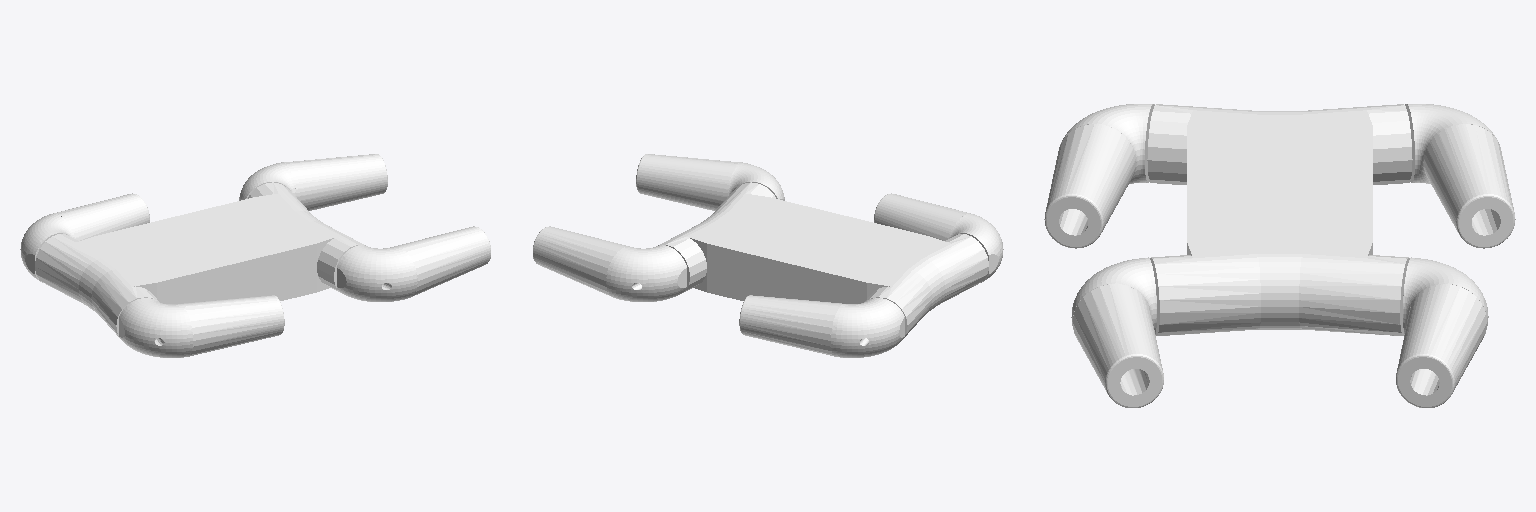
The robot description file, URDF, robot "9_degree":
<?xml version="1.0" encoding="utf-8"?>
<!-- This URDF was automatically created by SolidWorks to URDF Exporter! Originally created by [author] ([email redacted]) 
     Commit Version: 1.5.1-0-g916b5db  Build Version: 1.5.7152.31018
     For more information, please see http://wiki.ros.org/sw_urdf_exporter -->
<robot
  name="9_degree">
  <link
    name="base_link">
    <inertial>
      <origin
        xyz="-4.8572E-17 2.3225E-08 -5.2042E-18"
        rpy="0 0 0" />
      <mass
        value="2.942" />
      <inertia
        ixx="0.0101983"
        ixy="-6.5182E-19"
        ixz="-1.5206E-10"
        iyy="0.0407337"
        iyz="2.3311E-18"
        izz="0.0485410" />
    </inertial>
    <visual>
      <origin
        xyz="0 0 0"
        rpy="0 0 0" />
      <geometry>
        <mesh
          filename="package://9_degree/meshes/base_link.STL" />
      </geometry>
      <material
        name="">
        <color
          rgba="1 1 1 1" />
      </material>
    </visual>
    <collision>
      <origin
        xyz="0 0 0"
        rpy="0 0 0" />
      <geometry>
        <mesh
          filename="package://9_degree/meshes/base_link.STL" />
      </geometry>
    </collision>
  </link>
  <link
    name="left_front_link">
    <inertial>
      <origin
        xyz="-2.5506E-08 0.061763 -0.026677"
        rpy="0 0 0" />
      <mass
        value="0.092" />
      <inertia
        ixx="0.0002604"
        ixy="4.2892E-10"
        ixz="1.0058E-09"
        iyy="0.0000506"
        iyz="-1.01E-05"
        izz="0.0002595" />
    </inertial>
    <visual>
      <origin
        xyz="0 0 0"
        rpy="0 0 0" />
      <geometry>
        <mesh
          filename="package://9_degree/meshes/left_front_link.STL" />
      </geometry>
      <material
        name="">
        <color
          rgba="1 1 1 1" />
      </material>
    </visual>
    <collision>
      <origin
        xyz="0 0 0"
        rpy="0 0 0" />
      <geometry>
        <mesh
          filename="package://9_degree/meshes/left_front_link.STL" />
      </geometry>
    </collision>
  </link>
  <joint
    name="left_front_leg"
    type="continuous">
    <origin
      xyz="0.14611 0.10173 0"
      rpy="1.5708 1.5708 0" />
    <parent
      link="base_link" />
    <child
      link="left_front_link" />
    <axis
      xyz="0 0.15643 -0.98769" />
    <limit
      effort="5"
      velocity="487" />
  </joint>
  <link
    name="right_front_link">
    <inertial>
      <origin
        xyz="2.5506E-08 0.061763 0.026677"
        rpy="0 0 0" />
      <mass
        value="0.092" />
      <inertia
        ixx="0.0002604"
        ixy="-4.2892E-10"
        ixz="1.0058E-09"
        iyy="0.00021219"
        iyz="1.01E-05"
        izz="0.0002595" />
    </inertial>
    <visual>
      <origin
        xyz="0 0 0"
        rpy="0 0 0" />
      <geometry>
        <mesh
          filename="package://9_degree/meshes/right_front_link.STL" />
      </geometry>
      <material
        name="">
        <color
          rgba="1 1 1 1" />
      </material>
    </visual>
    <collision>
      <origin
        xyz="0 0 0"
        rpy="0 0 0" />
      <geometry>
        <mesh
          filename="package://9_degree/meshes/right_front_link.STL" />
      </geometry>
    </collision>
  </link>
  <joint
    name="right_front_leg"
    type="continuous">
    <origin
      xyz="0.14611 -0.10173 0"
      rpy="1.5708 1.5708 0" />
    <parent
      link="base_link" />
    <child
      link="right_front_link" />
    <axis
      xyz="0 0.15643 0.98769" />
    <limit
      effort="5"
      velocity="487" />
  </joint>
  <link
    name="right_back_link">
    <inertial>
      <origin
        xyz="4.359E-09 0.05683 0.03601"
        rpy="0 0 0" />
      <mass
        value="0.092" />
      <inertia
        ixx="0.0002604"
        ixy="-5.3626E-10"
        ixz="5.9018E-10"
        iyy="0.0000526"
        iyz="-2.27E-05"
        izz="0.0002575" />
    </inertial>
    <visual>
      <origin
        xyz="0 0 0"
        rpy="0 0 0" />
      <geometry>
        <mesh
          filename="package://9_degree/meshes/right_back_link.STL" />
      </geometry>
      <material
        name="">
        <color
          rgba="1 1 1 1" />
      </material>
    </visual>
    <collision>
      <origin
        xyz="0 0 0"
        rpy="0 0 0" />
      <geometry>
        <mesh
          filename="package://9_degree/meshes/right_back_link.STL" />
      </geometry>
    </collision>
  </link>
  <joint
    name="right_back_leg"
    type="continuous">
    <origin
      xyz="-0.14611 -0.10173 0"
      rpy="1.7279 1.5708 0" />
    <parent
      link="base_link" />
    <child
      link="right_back_link" />
    <axis
      xyz="0 0 1" />
    <limit
      effort="5"
      velocity="487" />
  </joint>
  <link
    name="left_back_link">
    <inertial>
      <origin
        xyz="-4.359E-09 0.050497 -0.044457"
        rpy="0 0 0" />
      <mass
        value="0.092" />
      <inertia
        ixx="0.0002604"
        ixy="6.2198E-10"
        ixz="4.9903E-10"
        iyy="0.0000646"
        iyz="0.0000532"
        izz="0.0002455" />
    </inertial>
    <visual>
      <origin
        xyz="0 0 0"
        rpy="0 0 0" />
      <geometry>
        <mesh
          filename="package://9_degree/meshes/left_back_link.STL" />
      </geometry>
      <material
        name="">
        <color
          rgba="1 1 1 1" />
      </material>
    </visual>
    <collision>
      <origin
        xyz="0 0 0"
        rpy="0 0 0" />
      <geometry>
        <mesh
          filename="package://9_degree/meshes/left_back_link.STL" />
      </geometry>
    </collision>
  </link>
  <joint
    name="left_back_leg"
    type="continuous">
    <origin
      xyz="-0.14611 0.10173 0"
      rpy="1.5708 1.5708 0" />
    <parent
      link="base_link" />
    <child
      link="left_back_link" />
    <axis
      xyz="0 -0.15643 -0.98769" />
    <limit
      effort="5"
      velocity="487" />
  </joint>
</robot>

--- Facts derived from the render (not from the file) ---
The picture shows the robot from 3 angles, left to right: view 1: azimuth 30°, elevation 25°; view 2: azimuth 150°, elevation 25°; view 3: azimuth 270°, elevation 25°; orthographic projection.
Robot: 9_degree — 5 links, 4 joints (4 continuous); root link base_link; default pose: all joints at 0.
Links seen in each view (by area): view 1: base_link, right_back_link, right_front_link, left_front_link, left_back_link; view 2: base_link, left_back_link, left_front_link, right_front_link, right_back_link; view 3: base_link, right_back_link, left_back_link, left_front_link, right_front_link.
Boxes of the visible links, x1,y1,x2,y2 form: base_link: (35,182,365,337); right_back_link: (119,295,284,357); right_front_link: (337,226,490,301); left_front_link: (239,154,387,210); left_back_link: (20,193,149,282); base_link: (658,182,988,337); left_back_link: (739,295,904,357); left_front_link: (533,226,686,301); right_front_link: (636,154,784,210); right_back_link: (874,193,1003,282); base_link: (1147,104,1412,335); right_back_link: (1044,104,1154,248); left_back_link: (1405,104,1515,248); left_front_link: (1396,257,1488,407); right_front_link: (1071,257,1163,407).
Bounding box of the posed robot: 0.4904 × 0.3794 × 0.064 m (x, y, z).
5 mesh visuals loaded from 5 distinct referenced files (5 binary STL).